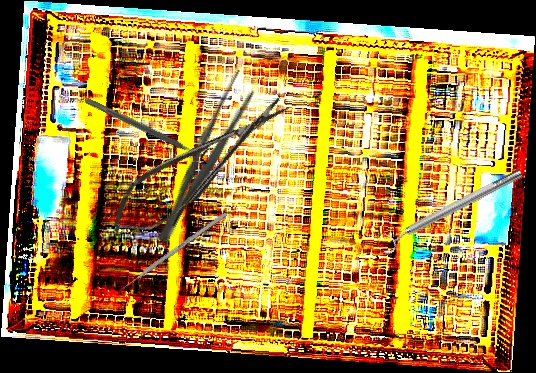Dressing Forceps: (148, 67, 261, 248)
Fixation Ring: (374, 162, 528, 257), (80, 90, 215, 167)
Micro Scissor: (97, 85, 304, 248)
Pusher: (114, 211, 228, 296)
